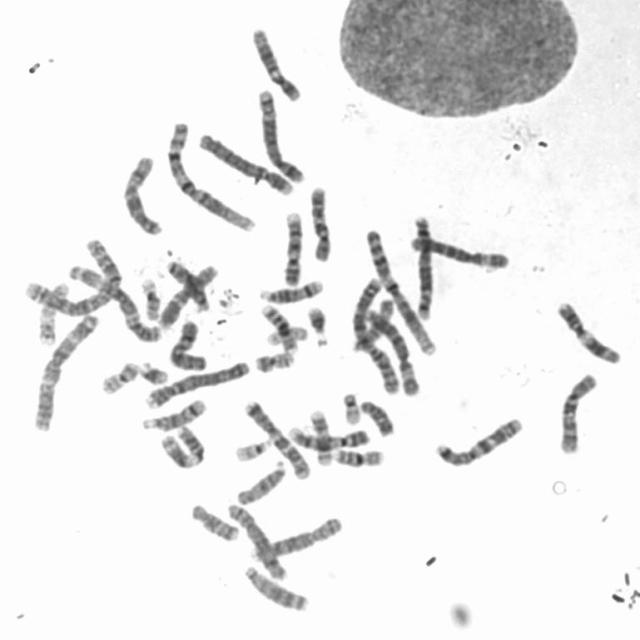A1: (160, 114, 258, 234), (360, 222, 441, 358)
A2: (20, 233, 124, 316), (347, 270, 405, 396)
A3: (27, 308, 102, 432), (65, 258, 165, 343)
B4: (193, 127, 297, 197), (139, 355, 253, 410)
B5: (251, 82, 307, 185), (407, 209, 438, 321)
C10: (553, 366, 601, 456), (304, 180, 336, 264)
C11: (551, 295, 625, 366), (156, 420, 207, 471)
C12: (245, 21, 304, 102), (156, 264, 219, 330)
C6: (358, 300, 424, 398), (406, 230, 512, 271)
C7: (239, 394, 314, 481), (430, 411, 527, 468)
C8: (220, 497, 290, 582), (246, 511, 344, 563)
C9: (282, 420, 372, 451), (277, 205, 306, 288)
D13: (239, 559, 311, 614), (160, 254, 210, 313)
D14: (137, 393, 209, 432), (254, 274, 326, 304)
D15: (231, 454, 289, 507), (347, 293, 397, 353)
E16: (256, 298, 300, 354), (328, 442, 386, 469)
E17: (33, 276, 72, 346), (304, 405, 336, 467)
E18: (186, 498, 242, 542), (355, 394, 397, 437)
F19: (262, 320, 312, 347), (136, 273, 162, 322)
F20: (96, 356, 142, 396), (250, 344, 297, 374)
G21: (302, 300, 331, 348), (136, 355, 170, 386)
G22: (229, 433, 274, 463), (337, 387, 364, 426)
X: (116, 149, 165, 236), (165, 314, 210, 372)
